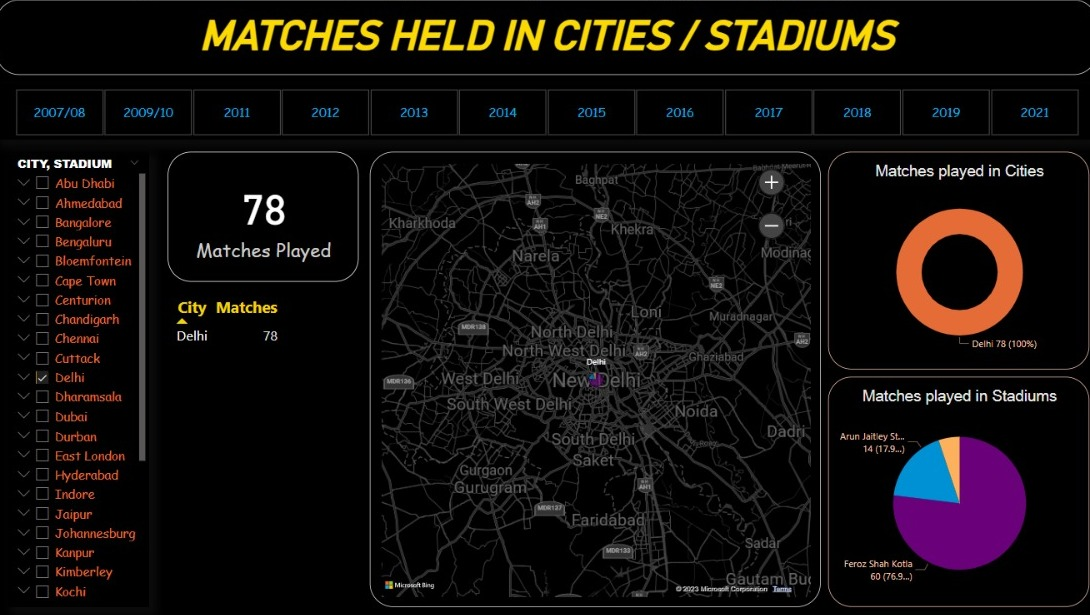

This screenshot's page, from the dashboard's own definition file:
{"tool":"powerbi","page":{"name":"Cities & Stadiums","canvas":[1420,800],"ordinal":1},"visuals":[{"type":"slicer","fields":{"Values":["VENUE SEASONAL.City","VENUE SEASONAL.Venue"]},"box":[14.7,195.6,182.2,585.6],"z":0},{"type":"textbox","box":[0,0,1416.4,96.5],"z":1000},{"type":"slicer","fields":{"Values":["VENUE SEASONAL.Season"]},"box":[0,108.5,1416.4,72.4],"z":2000},{"type":"card","fields":{"Values":["Sum(VENUE SEASONAL.Matches Played)"]},"box":[221.1,195.6,245.2,167.5],"z":3000},{"type":"pivotTable","fields":{"Rows":["VENUE SEASONAL.City"],"Values":["Sum(VENUE SEASONAL.Matches Played)"]},"box":[222.4,376.5,243.9,404.7],"z":4000},{"type":"pieChart","title":"Matches played in Stadiums","fields":{"Category":["VENUE SEASONAL.Venue"],"Y":["Sum(VENUE SEASONAL.Matches Played)"]},"box":[1070.7,485.1,336.3,296.1],"z":5000},{"type":"donutChart","title":"Matches played in Cities","fields":{"Category":["VENUE SEASONAL.City"],"Y":["VENUE SEASONAL.Matches Played running total in Matches Played"]},"box":[1070.7,195.6,336.3,280.1],"z":6000},{"type":"map","fields":{"Category":["VENUE SEASONAL.City","VENUE SEASONAL.Venue"],"Series":["VENUE SEASONAL.Venue"],"Size":["Sum(VENUE SEASONAL.Matches Played)"]},"box":[481.1,195.6,580.2,585.6],"z":7000}]}

Visuals, with their boxes in screenshot pixels (x1, y1, x2, y2), scaled from the page's 1420x800 canvas onto the 1090x615 screenshot:
slicer - VENUE SEASONAL.City x VENUE SEASONAL.Venue: left=11, top=150, right=151, bottom=601
textbox: left=0, top=0, right=1087, bottom=74
slicer - VENUE SEASONAL.Season: left=0, top=83, right=1087, bottom=139
card - Sum(VENUE SEASONAL.Matches Played): left=170, top=150, right=358, bottom=279
pivotTable - VENUE SEASONAL.City x Sum(VENUE SEASONAL.Matches Played): left=171, top=289, right=358, bottom=601
"Matches played in Stadiums" pieChart: left=822, top=373, right=1080, bottom=601
"Matches played in Cities" donutChart: left=822, top=150, right=1080, bottom=366
map - VENUE SEASONAL.City x VENUE SEASONAL.Venue: left=369, top=150, right=815, bottom=601
